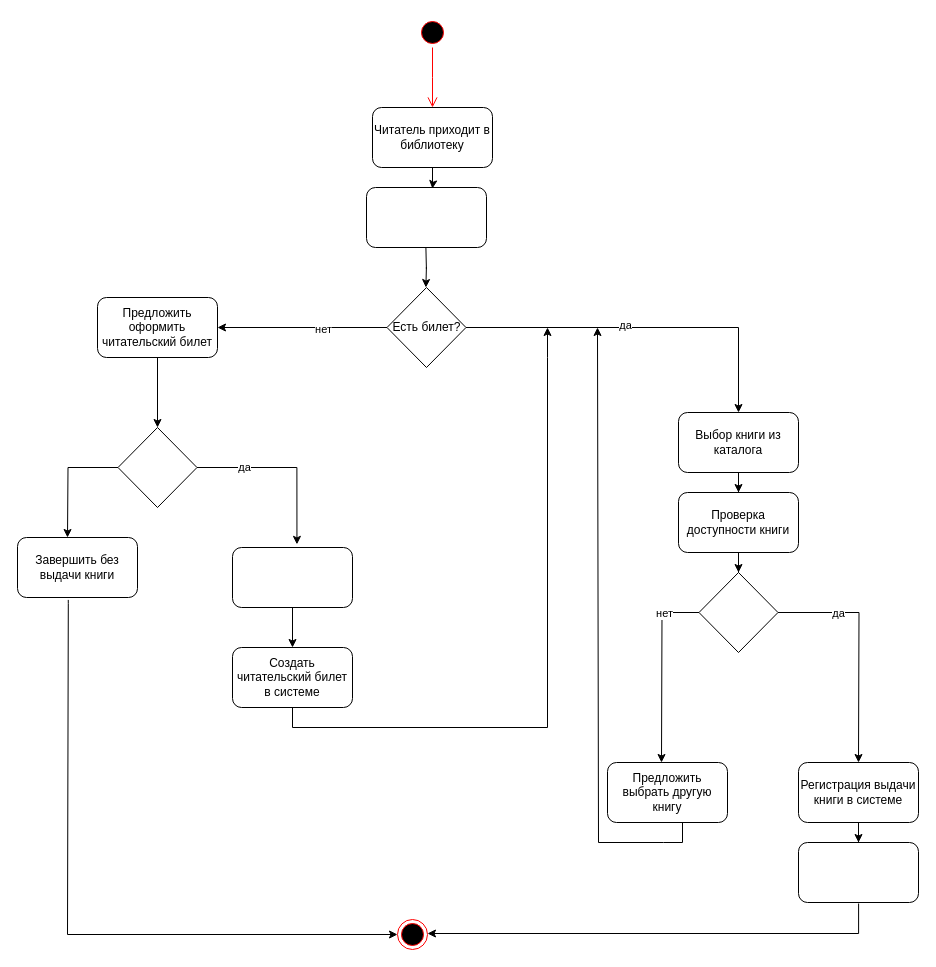
The diagram is 936 pixels wide and 967 high, and some of its shapes have lost their labels. The shapes that lost their labels are listed below. From the top down, each one's box as (x1, y1, x2, y2) in pixels, then its label:
(366, 186, 486, 248): Проверка наличия читательского билета
(117, 426, 197, 508): Оформить билет?
(232, 546, 352, 608): Заполнить данные для оформления билета
(698, 572, 778, 652): Книга доступна?
(798, 842, 918, 902): Выдать книгу читателю
